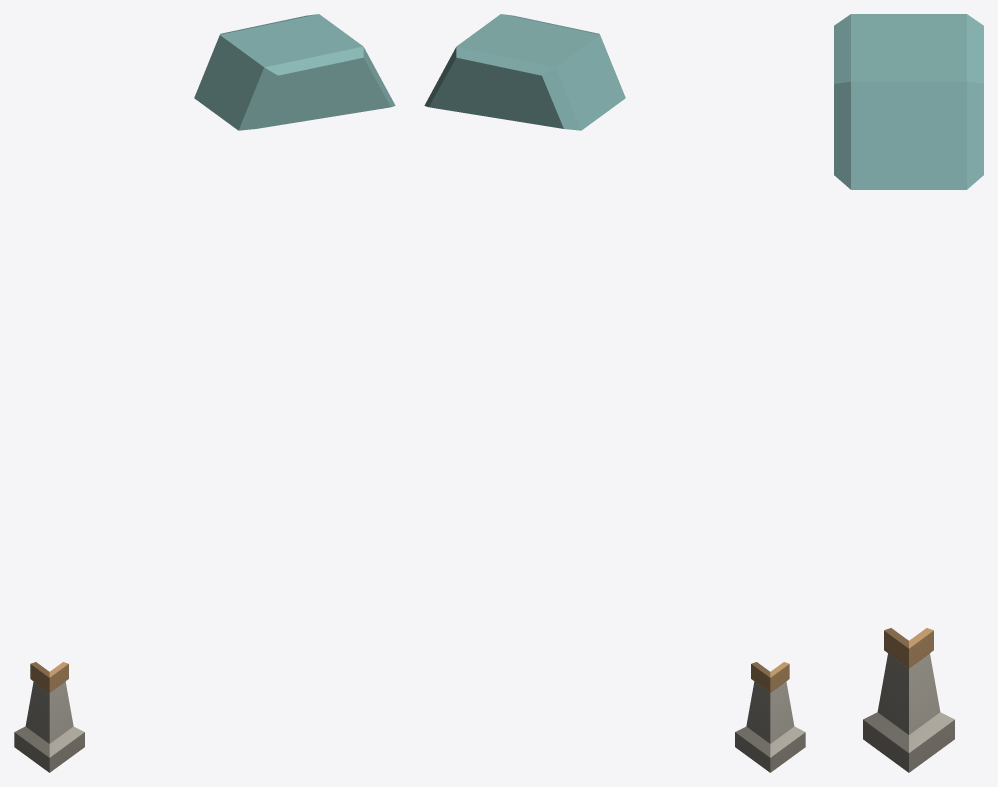
The model's file is lamp.lod2.glb.
The picture shows the model from 3 angles, left to right: view 1: azimuth 30°, elevation 25°; view 2: azimuth 150°, elevation 25°; view 3: azimuth 270°, elevation 25°; orthographic projection. The views are drawn at different scales.
Bounding box in the file's own units: 2.13 × 3.92 × 0.6199.
